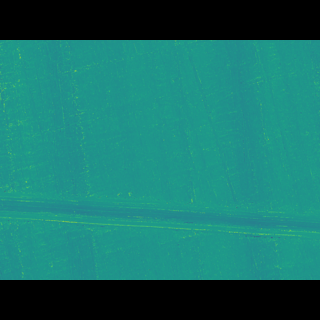Loch: (0, 180, 320, 220)
